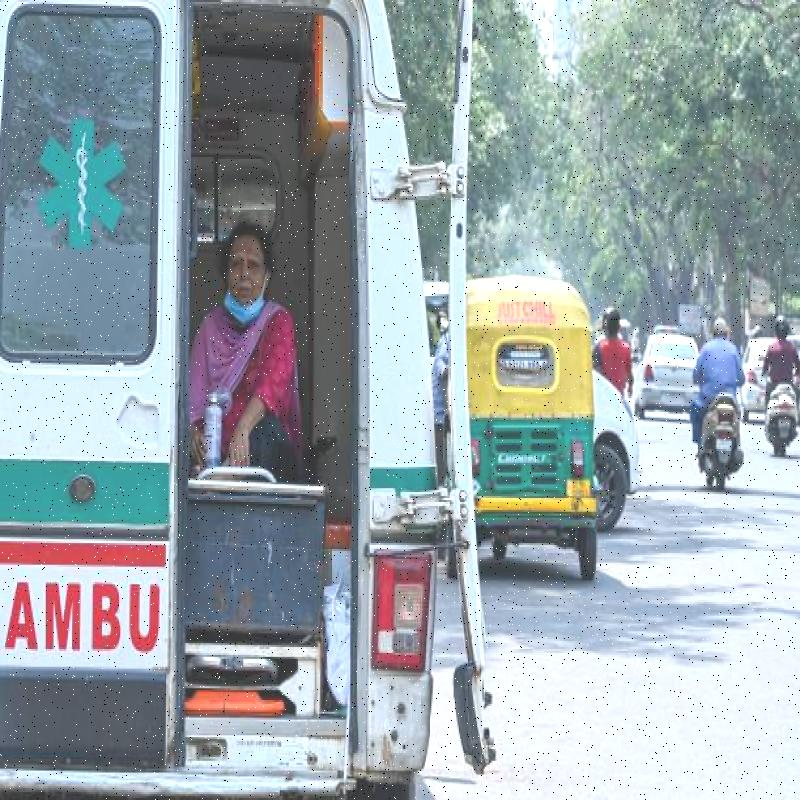ambulance: (0, 7, 504, 797)
